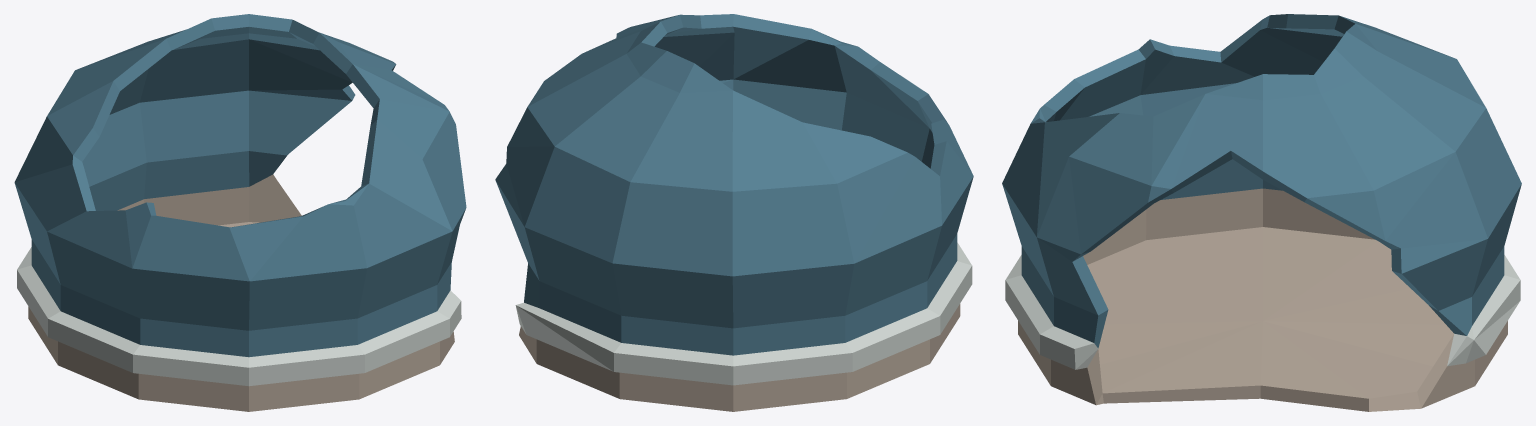
Rendered from SM_Bld_Roof_Cap_Destroyed_01.glb.
3 renders of one model, left to right at view 1: azimuth 30°, elevation 25°; view 2: azimuth 150°, elevation 25°; view 3: azimuth 270°, elevation 25°, orthographic. The views are drawn at different scales.
Visible parts, largest first — view 1: SM_Bld_Roof_Cap_Destroyed_01; view 2: SM_Bld_Roof_Cap_Destroyed_01; view 3: SM_Bld_Roof_Cap_Destroyed_01.
Boxes of the visible parts, x1,y1,x2,y2 form: SM_Bld_Roof_Cap_Destroyed_01: (14,14,466,411); SM_Bld_Roof_Cap_Destroyed_01: (495,14,973,411); SM_Bld_Roof_Cap_Destroyed_01: (1002,14,1521,411).
Bounding box in the file's own units: 5.55 × 3.91 × 6.06.
1 material, 1 textured.
